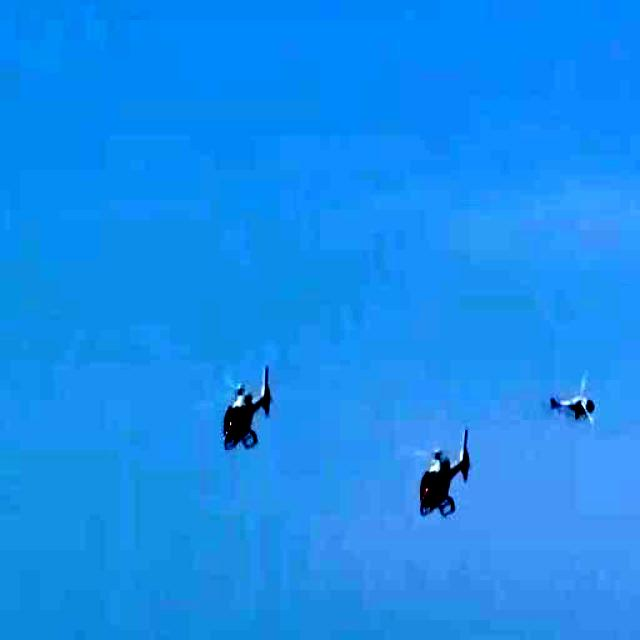drone: (199, 354, 276, 476), (405, 442, 481, 532), (538, 362, 609, 445)
